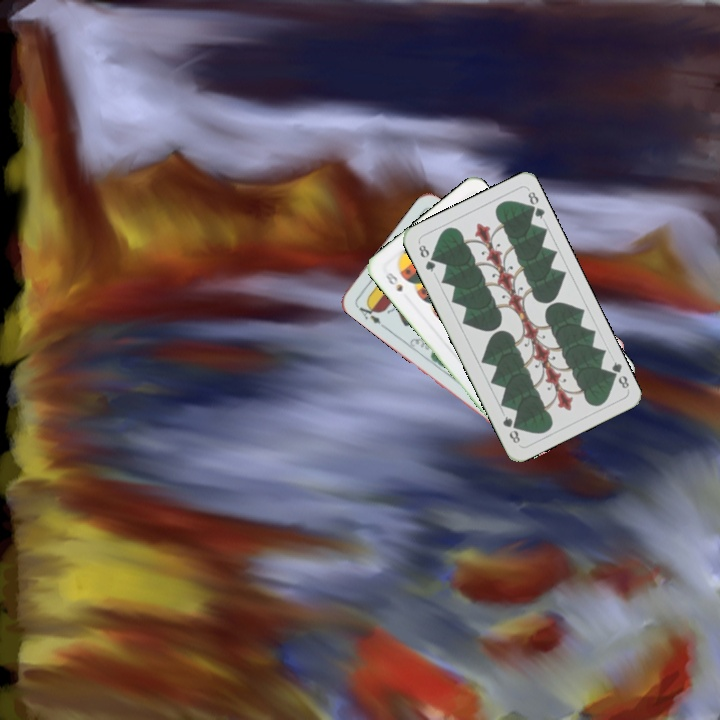EA: (352, 299, 387, 330)
G8: (604, 357, 632, 391), (414, 240, 438, 275)
S8: (381, 268, 405, 295)
